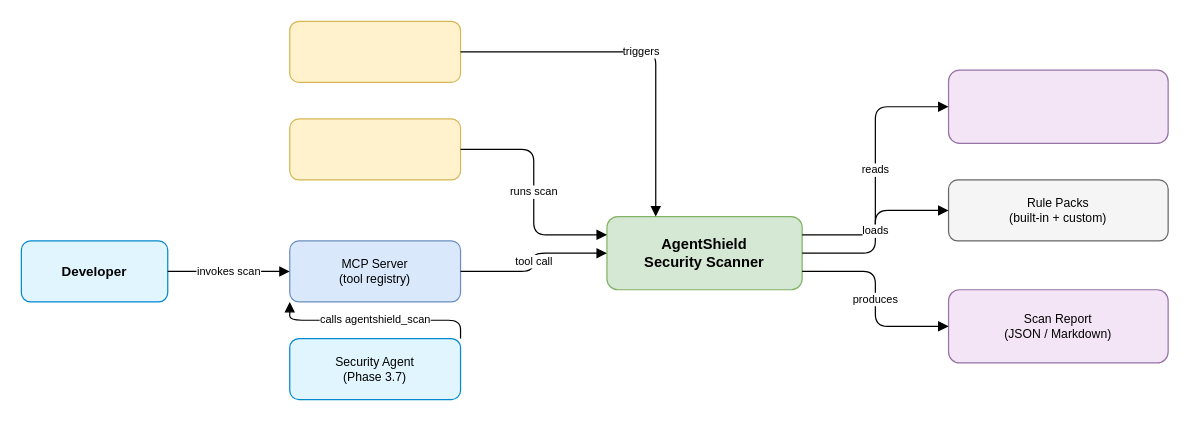
Image size: 1190x421. Some labels were removed from this diagram. Here are the shapes that lost their labels. From the top down, the centre of each, then its label:
At pixel 375 51: "Git Pre-Commit Hook".
At pixel 1057 106: ".kiro/ Config Files (steering, hooks, settings)".
At pixel 375 149: "CI/CD Pipeline".
